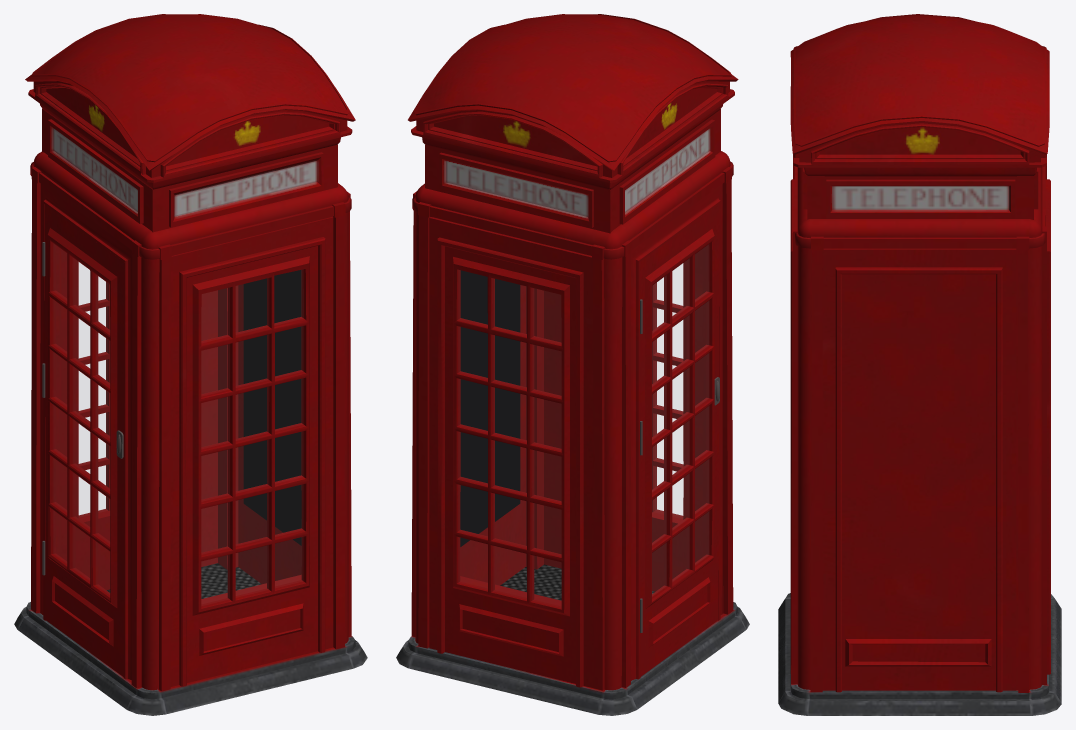
3 views of the same model, side by side, from view 1: azimuth 30°, elevation 25°; view 2: azimuth 150°, elevation 25°; view 3: azimuth 270°, elevation 25° (orthographic). The views are drawn at different scales.
Parts seen in each view (by area): view 1: FrontDoor_Low, Krisha_Low, Body_Low, Leftdoor_Low, Cube_Low, RightDoor_Low, Text_Low, BackDoor_Low, Rama_Low, LP_WIDOW; view 2: BackDoor_Low, Krisha_Low, Body_Low, Leftdoor_Low, Cube_Low, RightDoor_Low, Text_Low, FrontDoor_Low, Rama_Low, LP_WIDOW; view 3: RightDoor_Low, Krisha_Low, Body_Low, Cube_Low, Text_Low, BackDoor_Low, FrontDoor_Low.
Part boxes in pixels (x1,y1,x2,y2): FrontDoor_Low: [170, 217, 333, 686]; Krisha_Low: [25, 14, 355, 189]; Body_Low: [14, 151, 367, 715]; Leftdoor_Low: [45, 204, 124, 676]; Cube_Low: [30, 162, 351, 691]; RightDoor_Low: [238, 270, 301, 584]; Text_Low: [42, 108, 337, 232]; BackDoor_Low: [61, 249, 217, 590]; Rama_Low: [41, 184, 132, 679]; LP_WIDOW: [79, 263, 107, 516]; BackDoor_Low: [429, 217, 593, 688]; Krisha_Low: [408, 14, 738, 189]; Body_Low: [396, 151, 749, 715]; Leftdoor_Low: [640, 204, 719, 676]; Cube_Low: [411, 161, 733, 690]; RightDoor_Low: [460, 270, 525, 585]; Text_Low: [425, 109, 720, 233]; FrontDoor_Low: [544, 249, 702, 591]; Rama_Low: [631, 184, 722, 680]; LP_WIDOW: [653, 264, 683, 518]; RightDoor_Low: [822, 248, 1016, 692]; Krisha_Low: [790, 14, 1049, 176]; Body_Low: [778, 167, 1061, 715]; Cube_Low: [791, 154, 1046, 692]; Text_Low: [803, 167, 1038, 219]; BackDoor_Low: [1045, 179, 1050, 674]; FrontDoor_Low: [790, 179, 794, 673].
Size of the model in its own units: 1.08 by 2.6 by 1.09.
